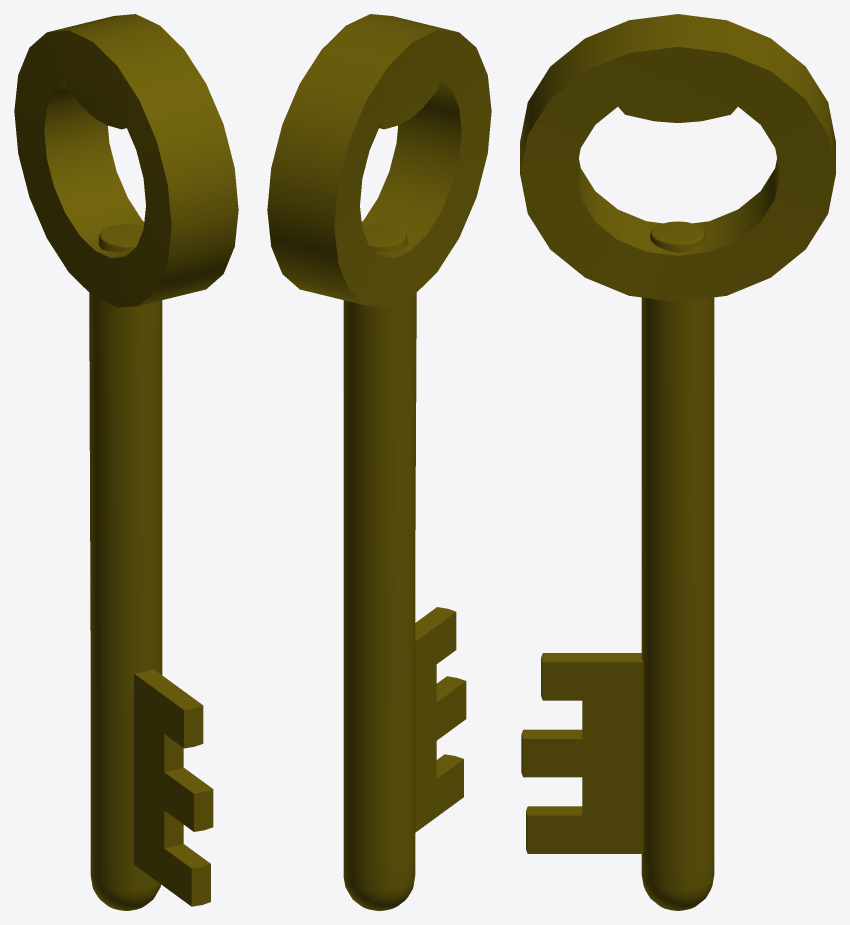
Rendered from realkey.fbx.
The picture shows the model from 3 angles, left to right: view 1: azimuth 30°, elevation 25°; view 2: azimuth 150°, elevation 25°; view 3: azimuth 270°, elevation 25°; orthographic projection.
Parts seen in each view (by area): view 1: pCylinder2; view 2: pCylinder2; view 3: pCylinder2.
Part boxes in pixels (left/top/right/bottom): pCylinder2: left=14, top=14, right=238, bottom=910; pCylinder2: left=267, top=14, right=491, bottom=910; pCylinder2: left=520, top=14, right=835, bottom=910.
Bounding box in the file's own units: 0.4916 × 6.13 × 2.
